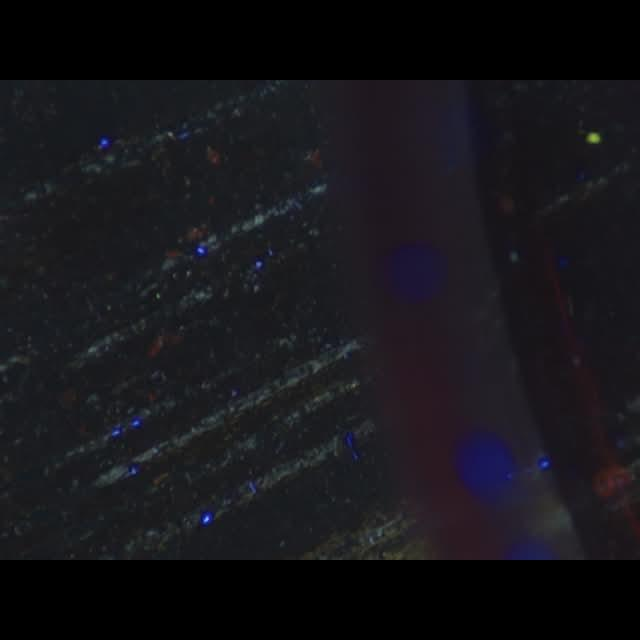microbeads: (585, 129, 603, 147)
